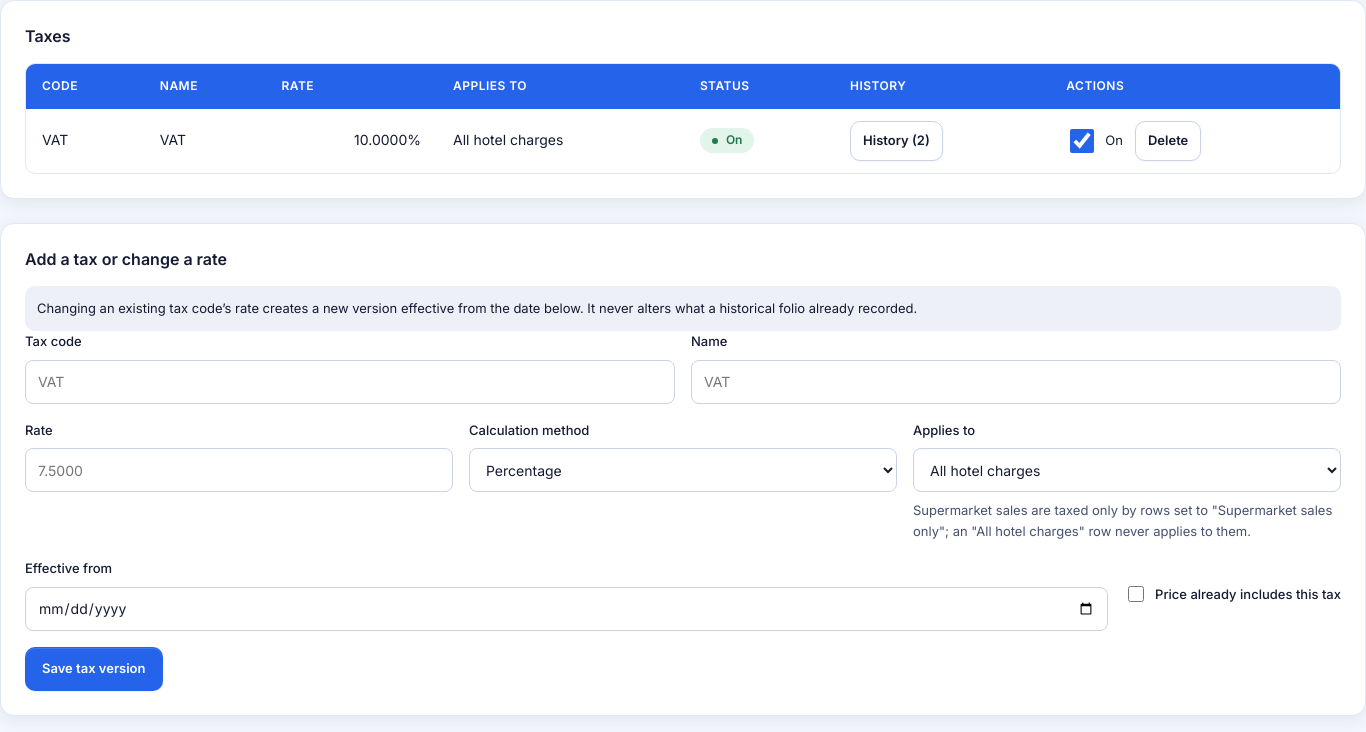
Test: <TaxesTab> › switch and delete › delete sends the reason; a refusal shows the server message with the counts
The image size is (1366, 732).
Click the button "Delete" at (1168, 141), box [1135,121,1201,161]
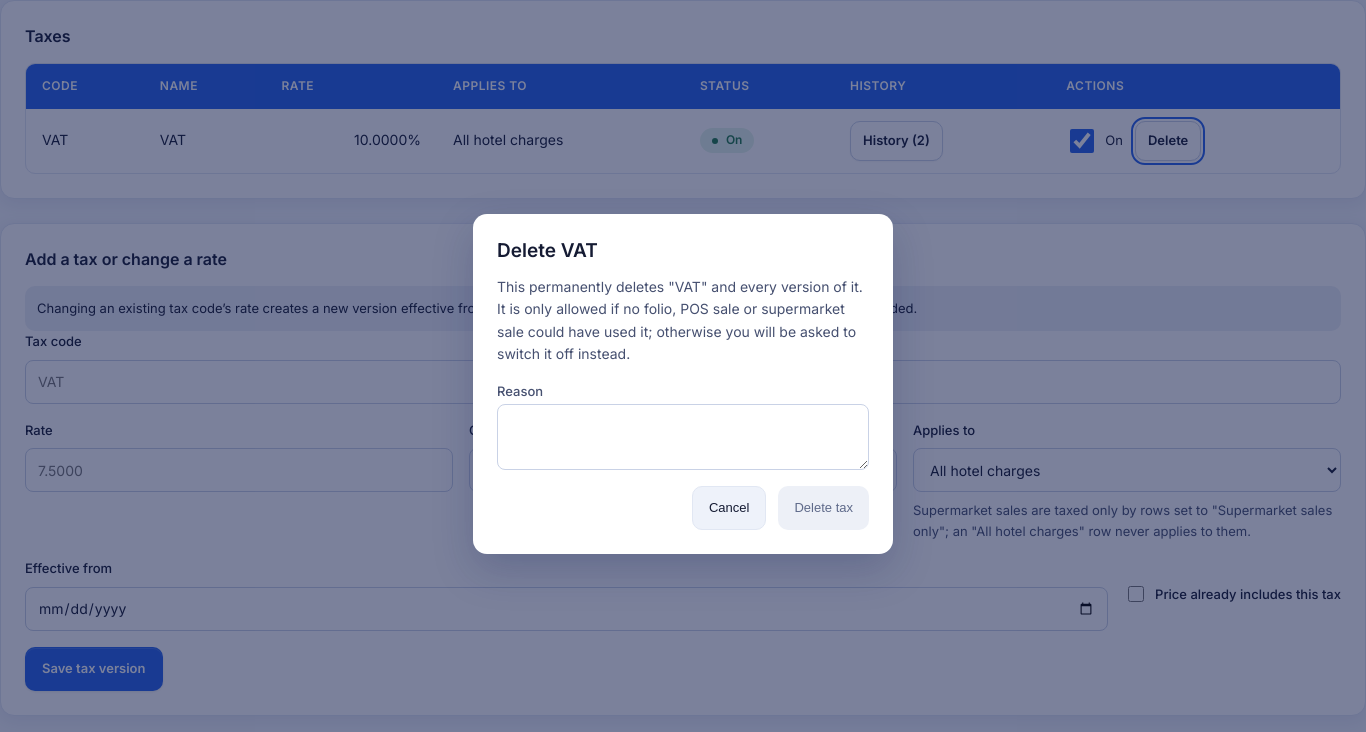
Type "Mistake" into the text box at (683, 437), box [497,404,869,470]
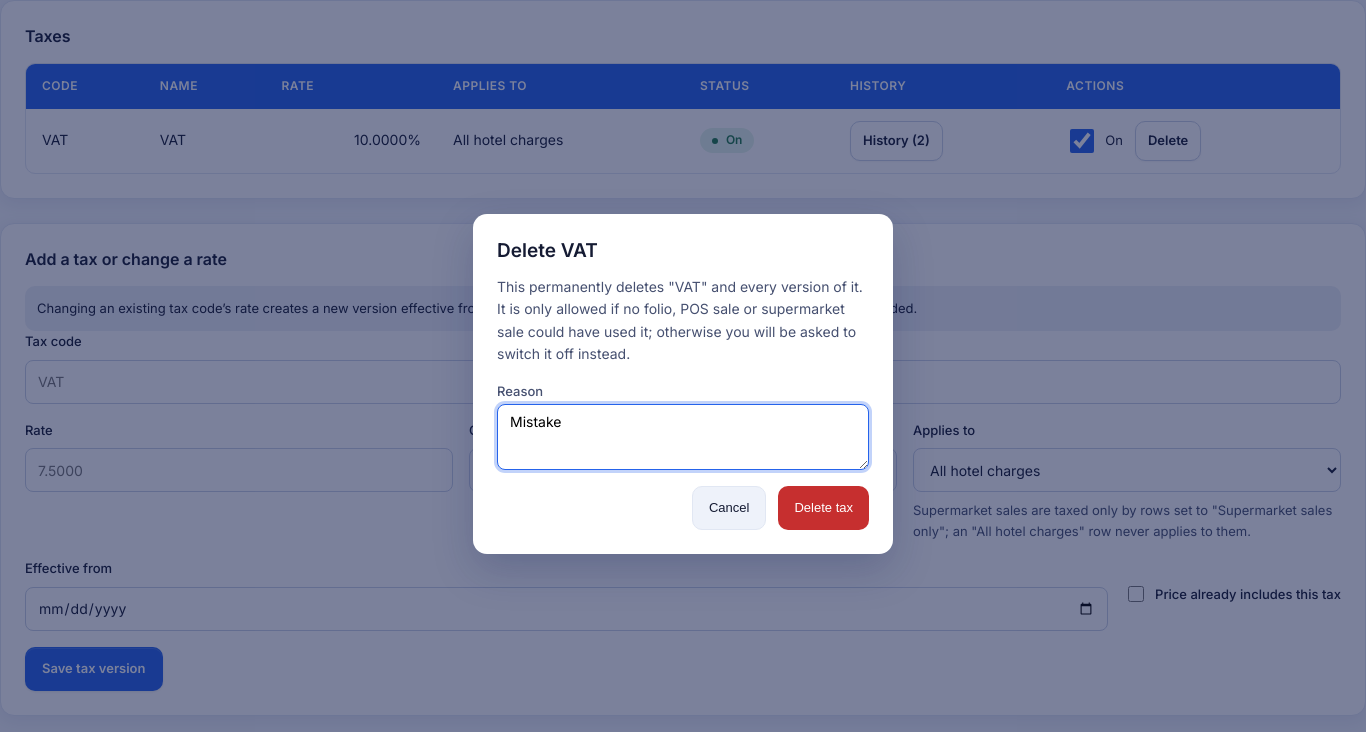
Click the button "Delete tax" at (824, 508), box [778,486,869,530]
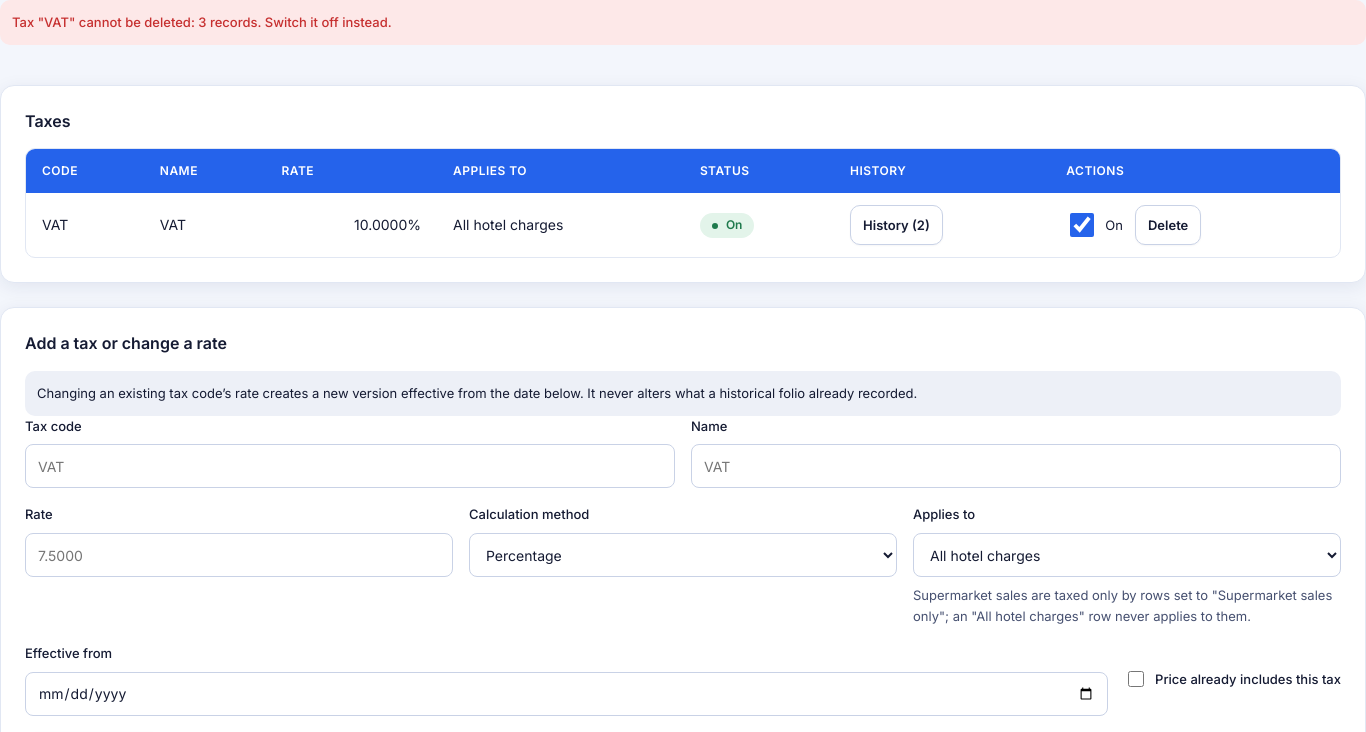
Now the message shows "Switch it off instead", box [12,14,392,30]
